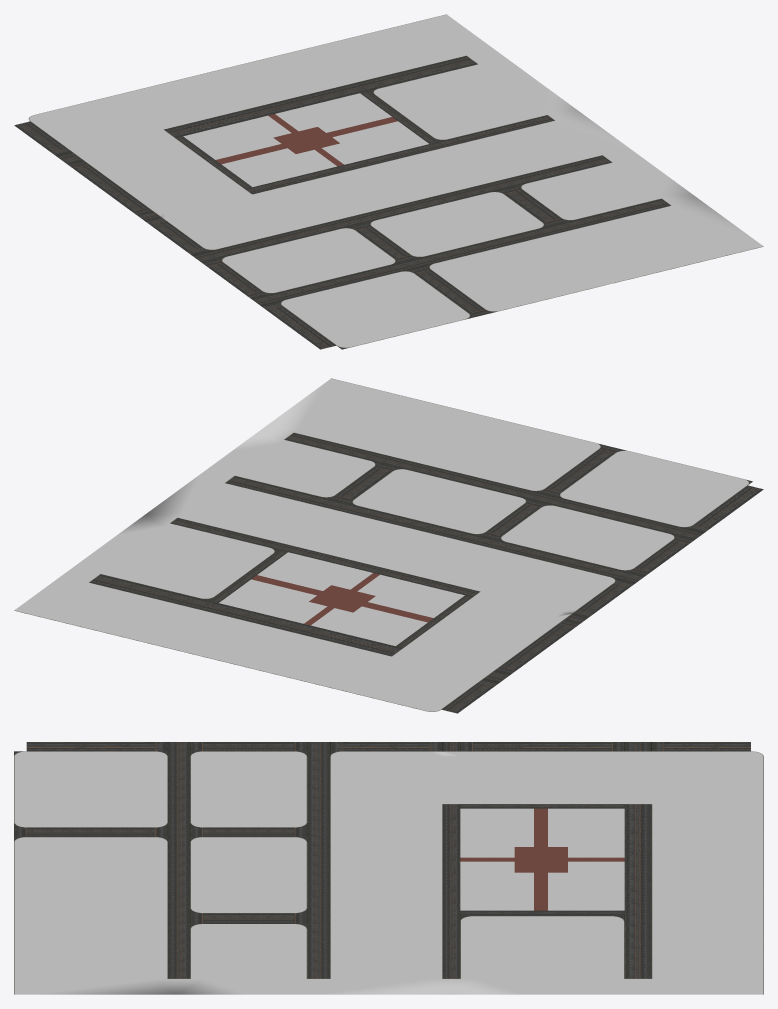
3 renders of one model, top to bottom at view 1: azimuth 30°, elevation 25°; view 2: azimuth 150°, elevation 25°; view 3: azimuth 270°, elevation 25°, orthographic. The views are drawn at different scales.
Visible parts, largest first — view 1: Object024; view 2: Object024; view 3: Object024.
Part boxes in pixels (bbox=[...]): Object024: bbox=[14, 14, 763, 349]; Object024: bbox=[14, 378, 763, 713]; Object024: bbox=[14, 742, 763, 994].
Size of the model in its own units: 39657 by 10.07 by 49736.
